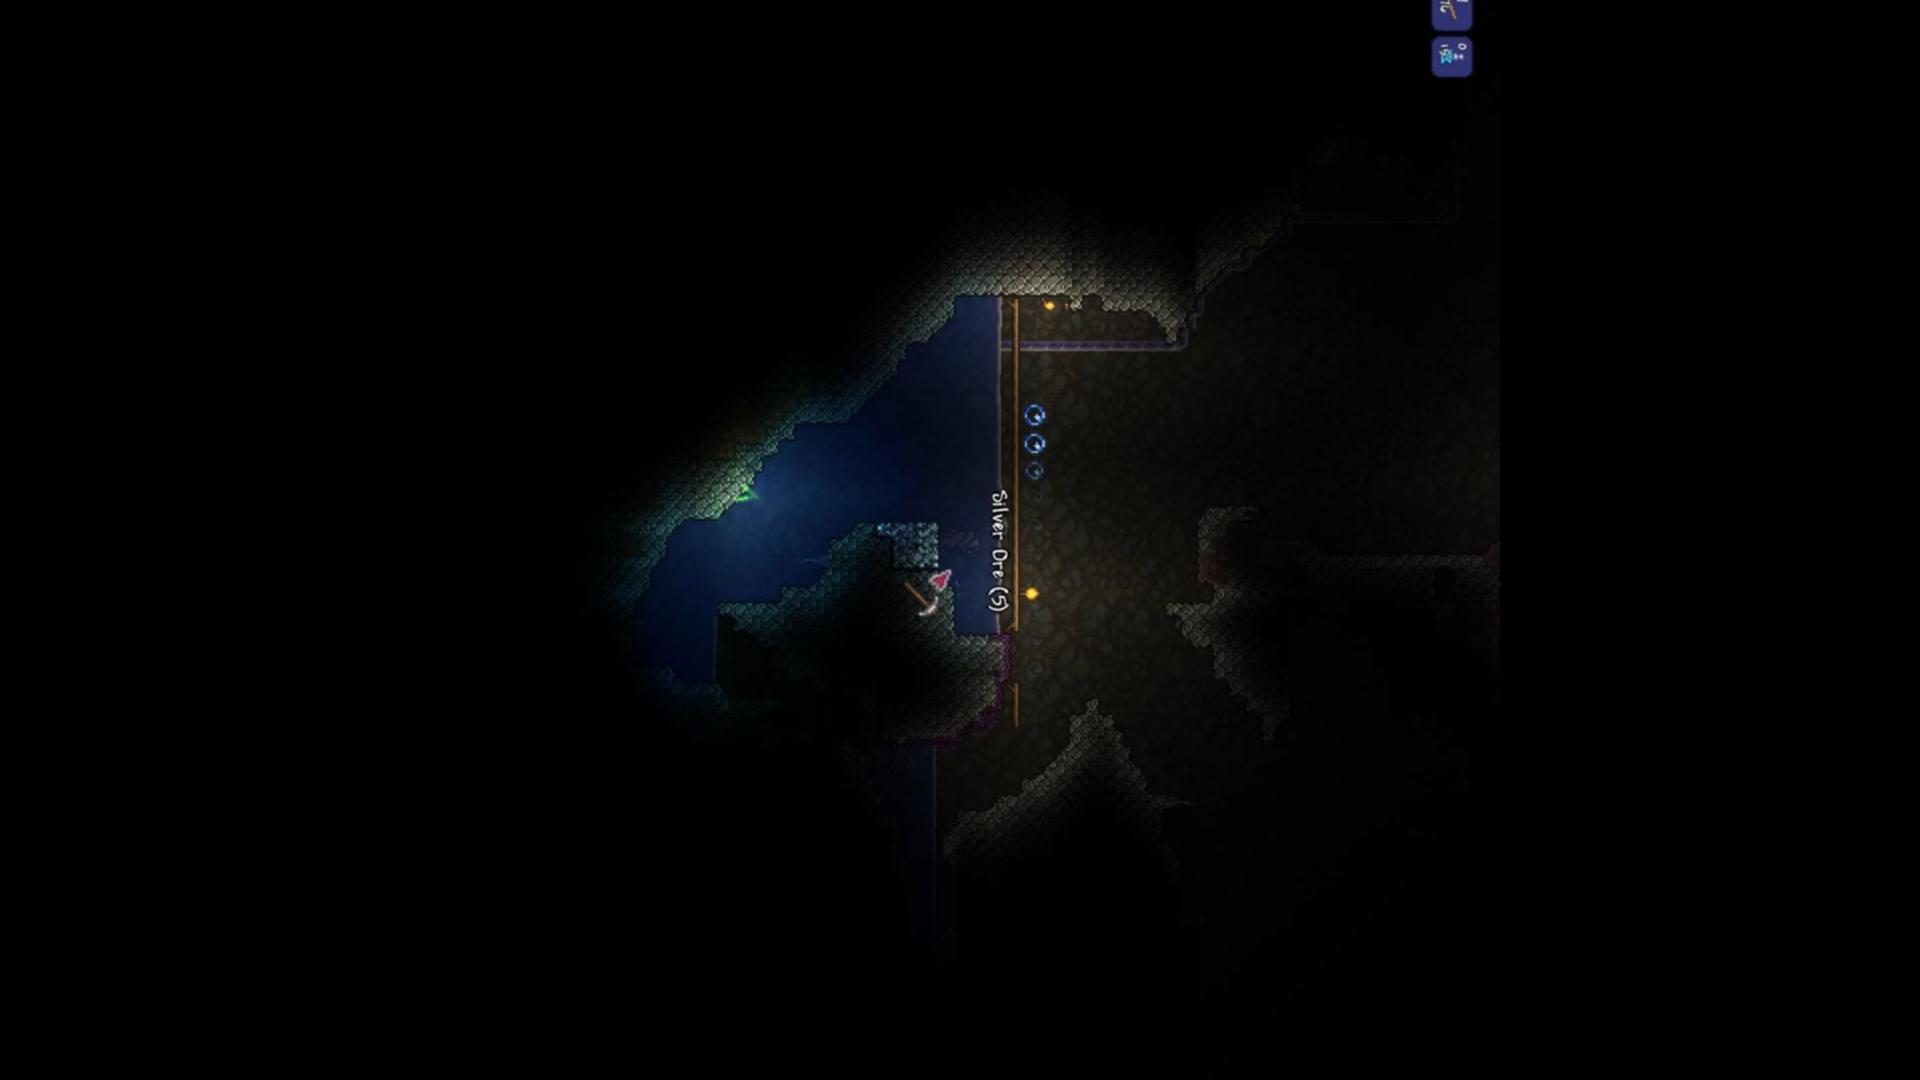glowstick: (729, 483, 765, 509)
liquid: (988, 357, 1006, 382), (985, 298, 1006, 319), (985, 382, 1005, 402), (986, 319, 1005, 338), (988, 338, 1005, 357), (989, 465, 1004, 488), (986, 417, 1005, 434), (988, 613, 1004, 633), (985, 402, 1005, 417), (986, 434, 1005, 448), (989, 448, 1005, 464)
platform: (1007, 531, 1027, 563), (1006, 477, 1025, 506), (1005, 414, 1026, 435), (1004, 338, 1023, 360), (1002, 298, 1021, 322), (1007, 506, 1025, 531), (1004, 393, 1023, 413), (1006, 608, 1021, 633), (1010, 563, 1027, 584), (1006, 455, 1022, 477), (1005, 435, 1022, 455), (1002, 361, 1025, 376), (1443, 0, 1457, 22), (1004, 320, 1022, 338), (1007, 702, 1018, 728), (1004, 377, 1022, 392), (1007, 683, 1022, 702)
recallP: (1437, 45, 1466, 67)
